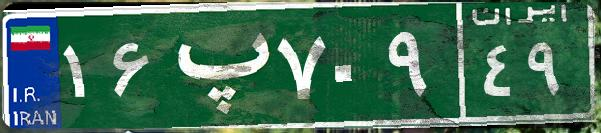0: (330, 28, 385, 110)
1: (57, 26, 110, 107)
4: (475, 38, 525, 113)
6: (110, 28, 158, 105)
7: (273, 28, 330, 110)
9: (385, 28, 445, 110), (525, 38, 570, 115)
پ: (158, 15, 273, 115)
